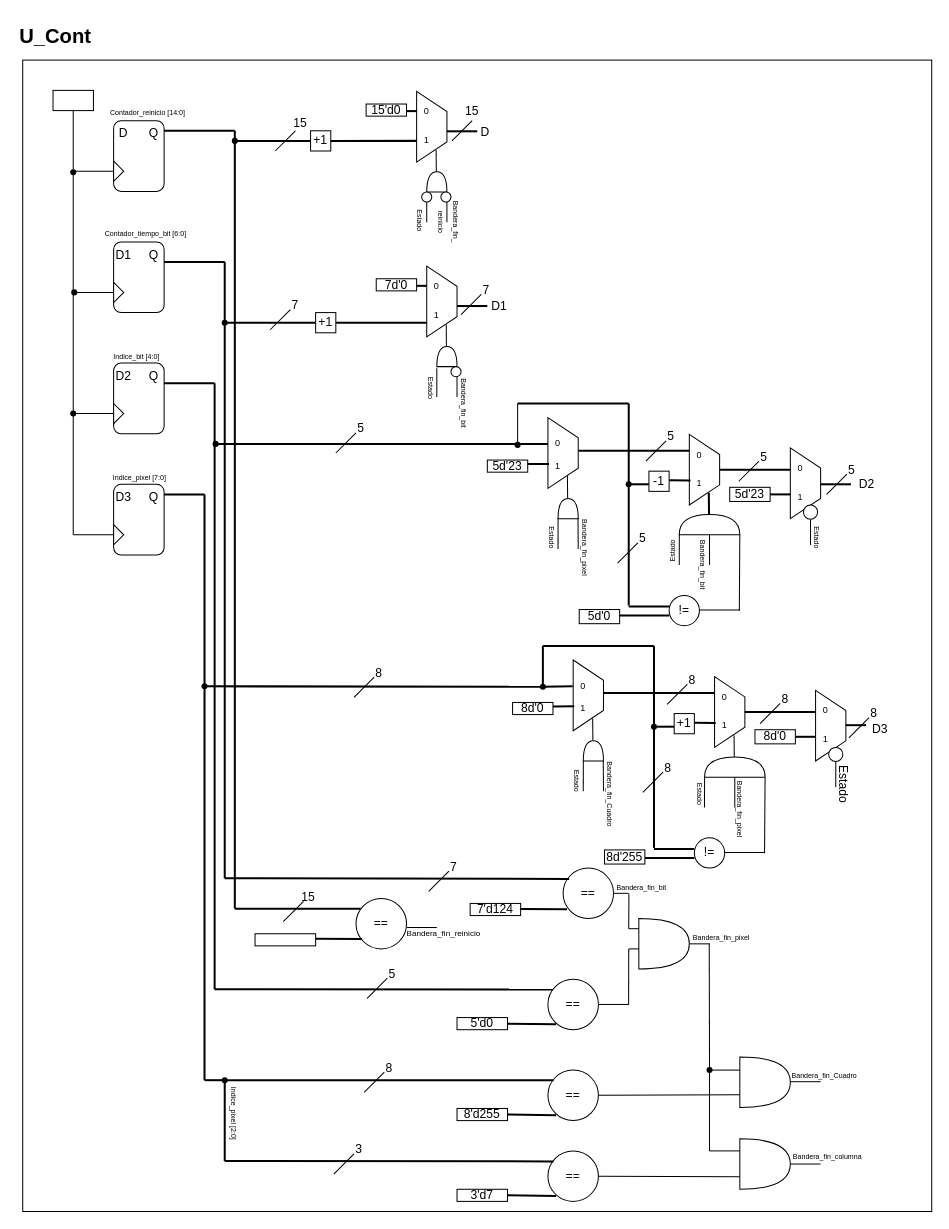
The diagram is 949 pixels wide and 1229 high, and some of its shapes have lost their labels. The box of each missing label's shape, as (x1, y1, x2, y2) in pixels:
15'd27999: (254, 933, 316, 946)
CLK: (52, 89, 93, 111)
